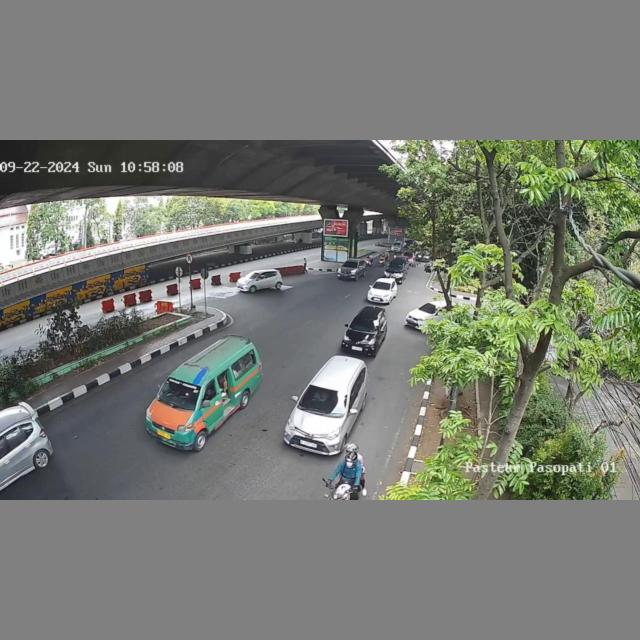windshield: (300, 385, 348, 417), (156, 379, 202, 410), (349, 316, 380, 332), (373, 282, 390, 290)
